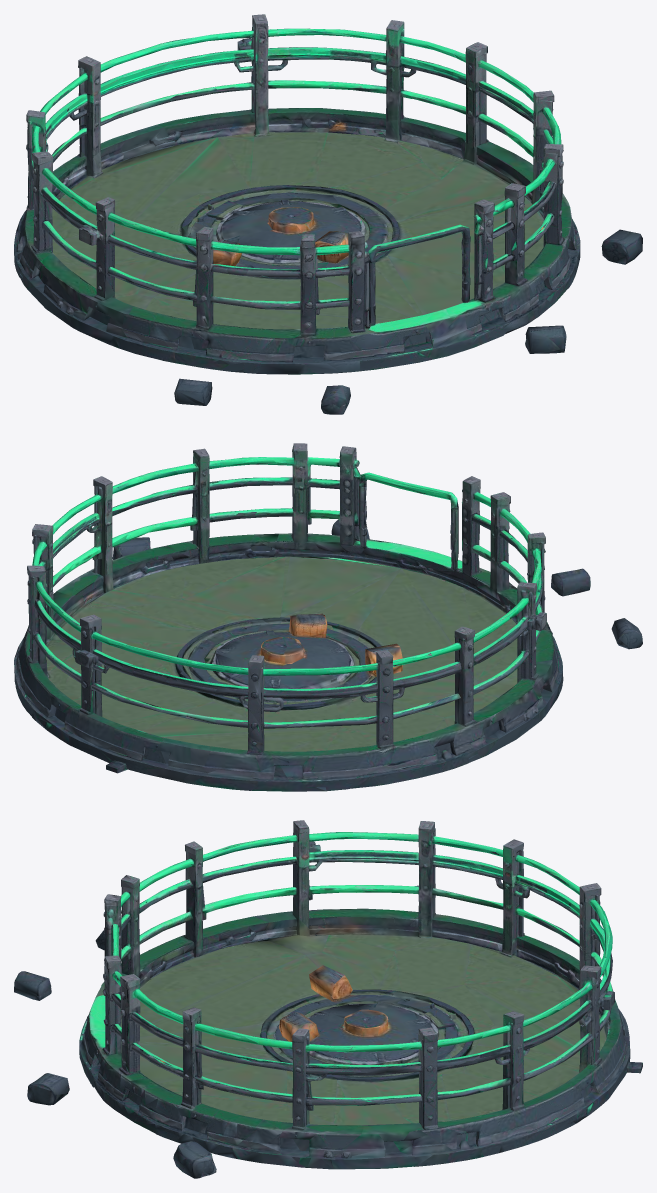
Rendered from cow-pen.glb.
The picture shows the model from 3 angles, top to bottom: view 1: azimuth 30°, elevation 25°; view 2: azimuth 150°, elevation 25°; view 3: azimuth 270°, elevation 25°; orthographic projection. The views are drawn at different scales.
Bounding box in the file's own units: 1.73 × 0.4197 × 1.9.
Materials: 1 (1 with a texture image).
